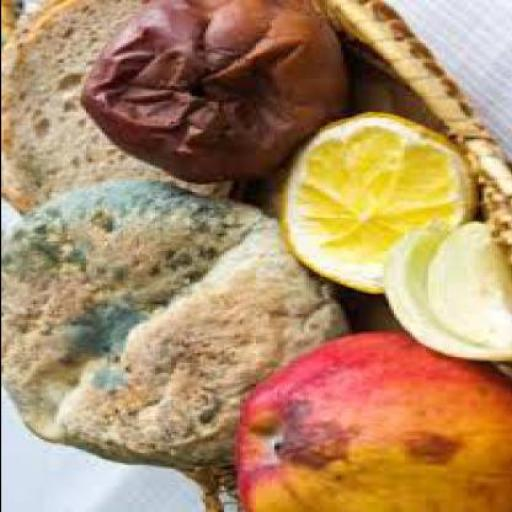biodegradable: (1, 178, 350, 469), (1, 0, 244, 231), (226, 330, 509, 509), (77, 1, 348, 180), (273, 108, 470, 296), (376, 215, 510, 363), (1, 0, 14, 32)
